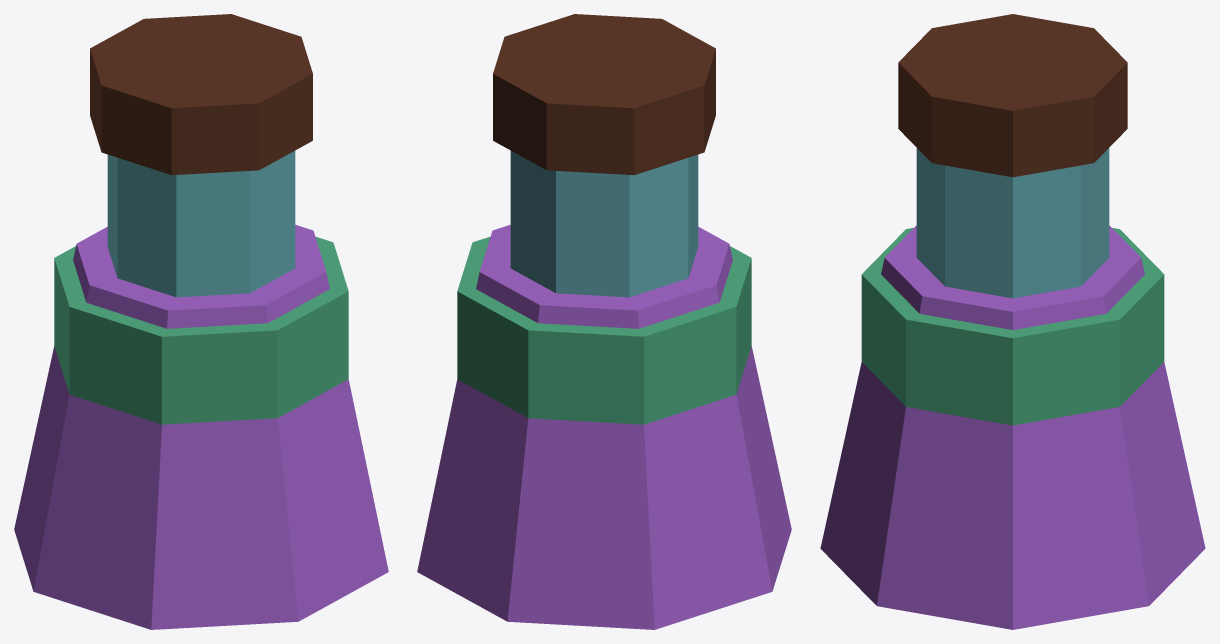
Rendered from potion_bottle.obj.
The picture shows the model from 3 angles, left to right: view 1: azimuth 30°, elevation 25°; view 2: azimuth 150°, elevation 25°; view 3: azimuth 270°, elevation 25°; orthographic projection.
Parts seen in each view (by area): view 1: potion_bottle; view 2: potion_bottle; view 3: potion_bottle.
Part boxes in pixels (left/top/right/bottom): potion_bottle: left=14, top=14, right=388, bottom=629; potion_bottle: left=417, top=14, right=791, bottom=629; potion_bottle: left=820, top=14, right=1205, bottom=629.
Size of the model in its own units: 0.42 by 0.585 by 0.42.
